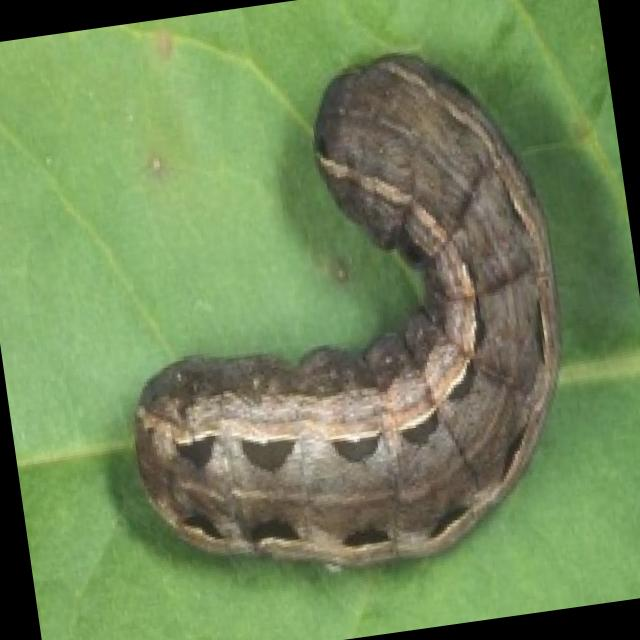armyworm: (74, 20, 606, 608)
